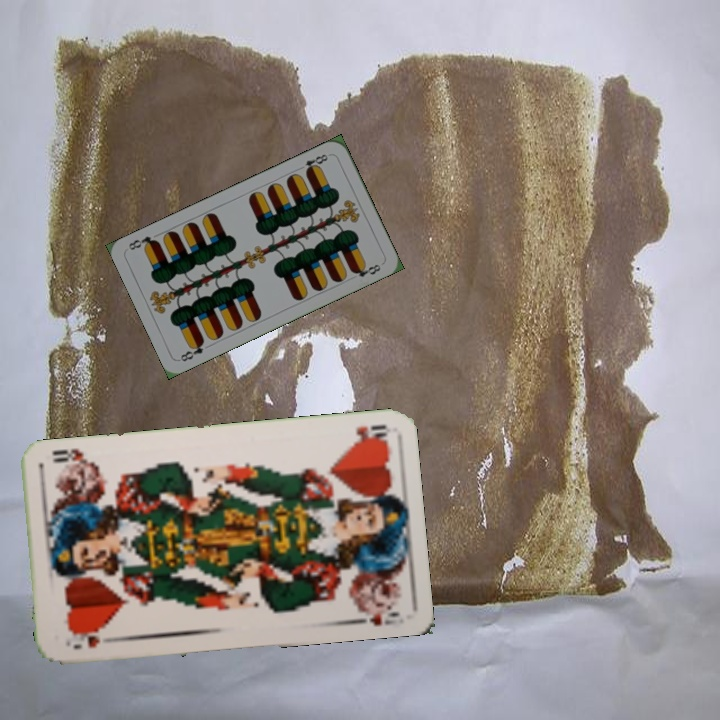E8: (294, 150, 333, 176), (176, 336, 207, 364)
HO: (349, 421, 390, 446), (69, 628, 102, 652)
